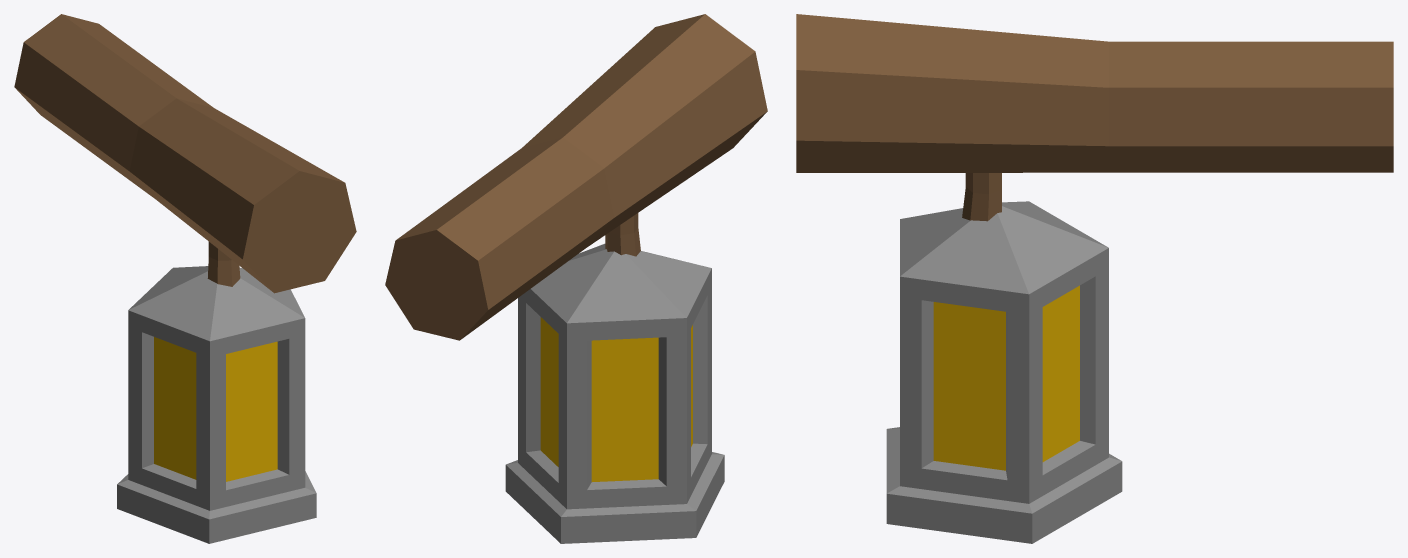
The model's file is House_Lantern_001.fbx.
3 renders of one model, left to right at view 1: azimuth 30°, elevation 25°; view 2: azimuth 150°, elevation 25°; view 3: azimuth 270°, elevation 25°, orthographic. The views are drawn at different scales.
Parts seen in each view (by area): view 1: House_Lantern.001; view 2: House_Lantern.001; view 3: House_Lantern.001.
Part boxes in pixels (bbox=[...]): House_Lantern.001: bbox=[14, 14, 356, 543]; House_Lantern.001: bbox=[385, 14, 767, 543]; House_Lantern.001: bbox=[796, 14, 1393, 543].
Bounding box in the file's own units: 29.31 × 62.32 × 70.62.
